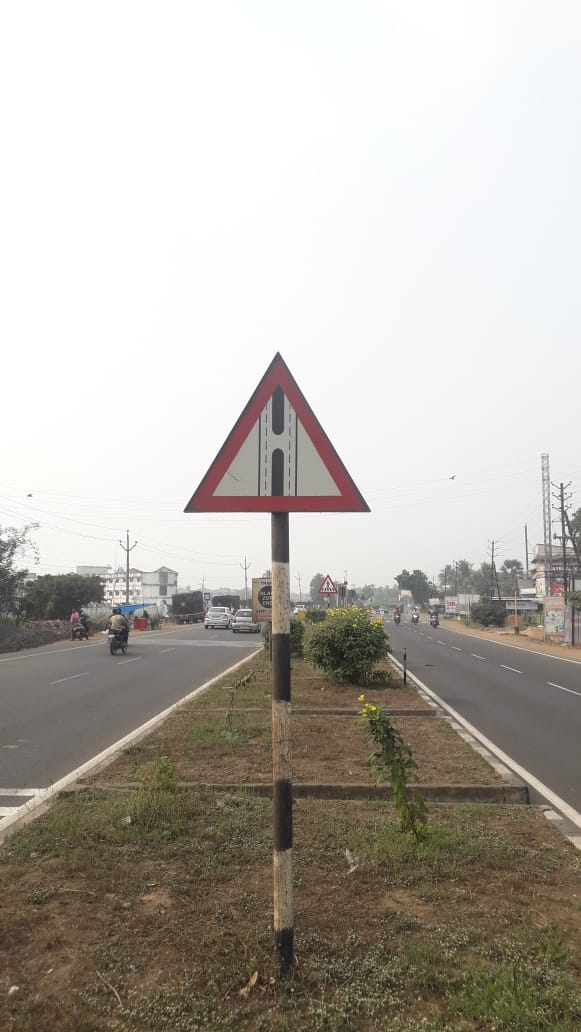highway go straight: (174, 353, 383, 525)
